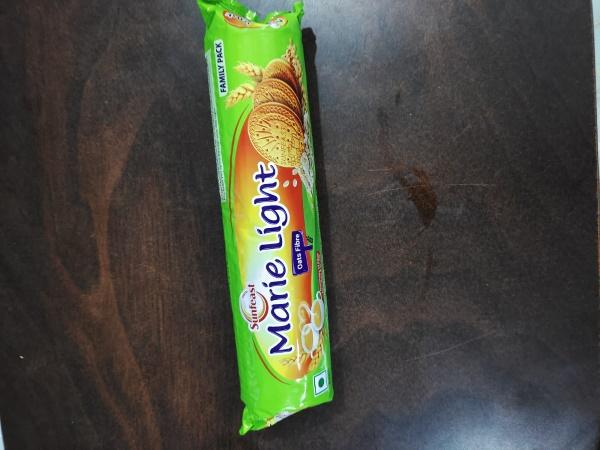MarieLight: (190, 1, 352, 439)
